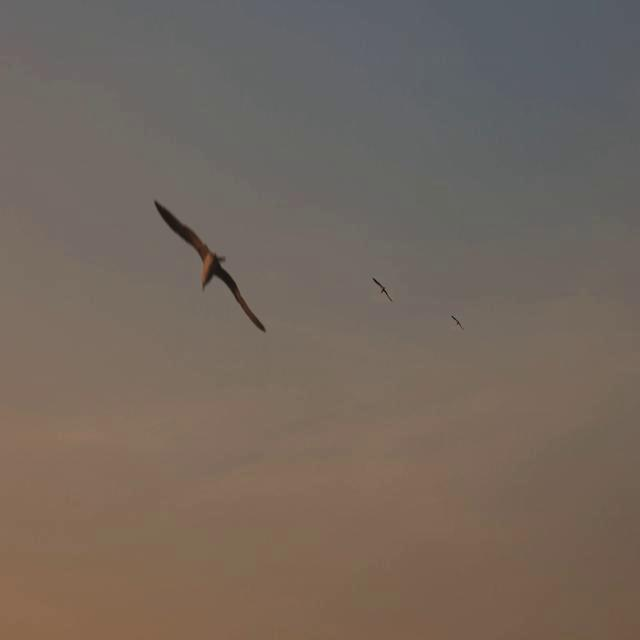bird: (155, 200, 267, 333), (372, 278, 394, 304), (450, 313, 464, 329)
